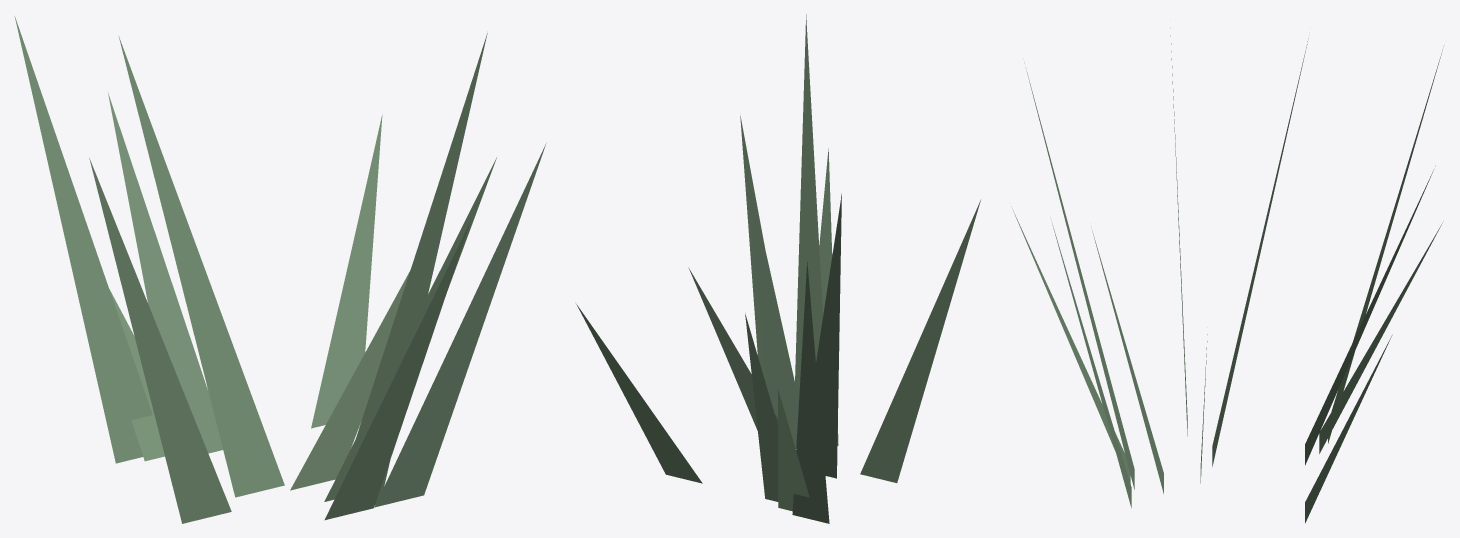
File: SM_GrassFringe.fbx
3 views of the same model, side by side, from view 1: azimuth 30°, elevation 25°; view 2: azimuth 150°, elevation 25°; view 3: azimuth 270°, elevation 25° (orthographic). The views are drawn at different scales.
Visible parts, largest first — view 1: SM_GrassFringe; view 2: SM_GrassFringe; view 3: SM_GrassFringe.
Boxes of the visible parts, box(x1,y1,x2,y2) form: SM_GrassFringe: box(14, 16, 546, 523); SM_GrassFringe: box(576, 14, 980, 523); SM_GrassFringe: box(1011, 28, 1443, 523).
Size of the model in its own units: 42.16 by 42.43 by 48.94.
